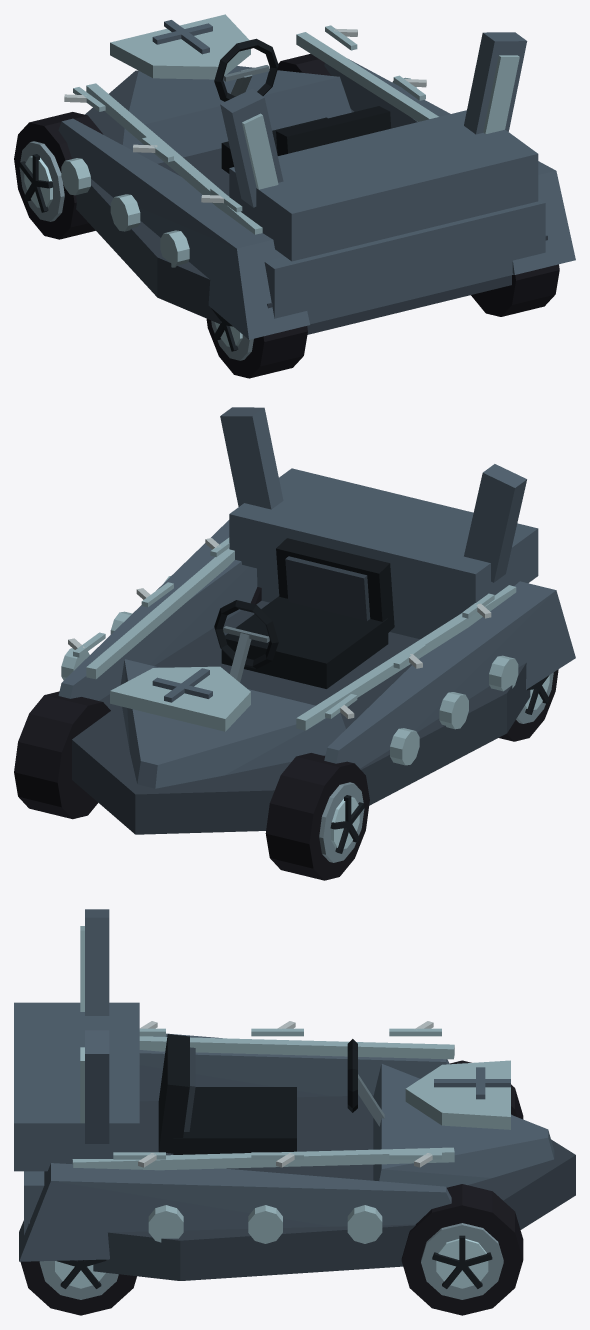
Rendered from kart.glb.
3 views of the same model, one above another, from view 1: azimuth 30°, elevation 25°; view 2: azimuth 150°, elevation 25°; view 3: azimuth 270°, elevation 25° (orthographic).
Visible parts, largest first — view 1: identity-ship-ship-pointed-bow-and-raised-stern, identity-ship-motif-ears, wheel-front-left, identity-ship-motif-shield, identity-ship-driver-cockpit, wheel-rear-left, wheel-rear-right, identity-ship-motif-runes, wheel-front-right; view 2: identity-ship-ship-pointed-bow-and-raised-stern, identity-ship-driver-cockpit, wheel-front-left, identity-ship-motif-ears, wheel-front-right, identity-ship-motif-shield, identity-ship-motif-runes, wheel-rear-left; view 3: identity-ship-ship-pointed-bow-and-raised-stern, identity-ship-driver-cockpit, wheel-front-right, identity-ship-motif-ears, identity-ship-motif-shield, wheel-rear-right, identity-ship-motif-runes.
Part boxes in pixels (x1,y1,x2,y2): identity-ship-ship-pointed-bow-and-raised-stern: [58, 32, 575, 339]; identity-ship-motif-ears: [220, 32, 527, 207]; wheel-front-left: [14, 112, 103, 239]; identity-ship-motif-shield: [110, 14, 250, 79]; identity-ship-driver-cockpit: [214, 38, 391, 173]; wheel-rear-left: [206, 308, 307, 378]; wheel-rear-right: [471, 264, 559, 316]; identity-ship-motif-runes: [64, 25, 426, 212]; wheel-front-right: [277, 53, 330, 75]; identity-ship-ship-pointed-bow-and-raised-stern: [58, 468, 575, 834]; identity-ship-driver-cockpit: [214, 538, 394, 688]; wheel-front-left: [265, 753, 369, 880]; identity-ship-motif-ears: [220, 407, 526, 582]; wheel-front-right: [14, 691, 110, 819]; identity-ship-motif-shield: [110, 666, 250, 731]; identity-ship-motif-runes: [68, 537, 494, 718]; wheel-rear-left: [499, 669, 558, 741]; identity-ship-ship-pointed-bow-and-raised-stern: [14, 1002, 575, 1280]; identity-ship-driver-cockpit: [158, 1034, 384, 1154]; wheel-front-right: [401, 1184, 523, 1315]; identity-ship-motif-ears: [80, 909, 109, 1143]; identity-ship-motif-shield: [405, 1060, 510, 1129]; wheel-rear-right: [20, 1259, 136, 1315]; identity-ship-motif-runes: [113, 1021, 441, 1167].
Size of the model in its own units: 2 by 1.46 by 2.77.
